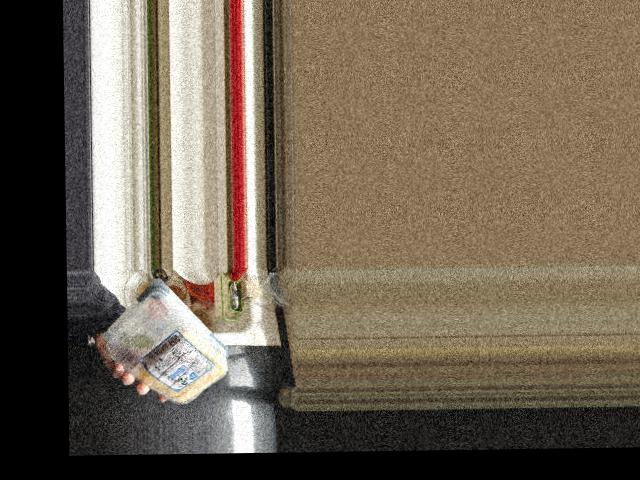cheese: (104, 295, 230, 397)
